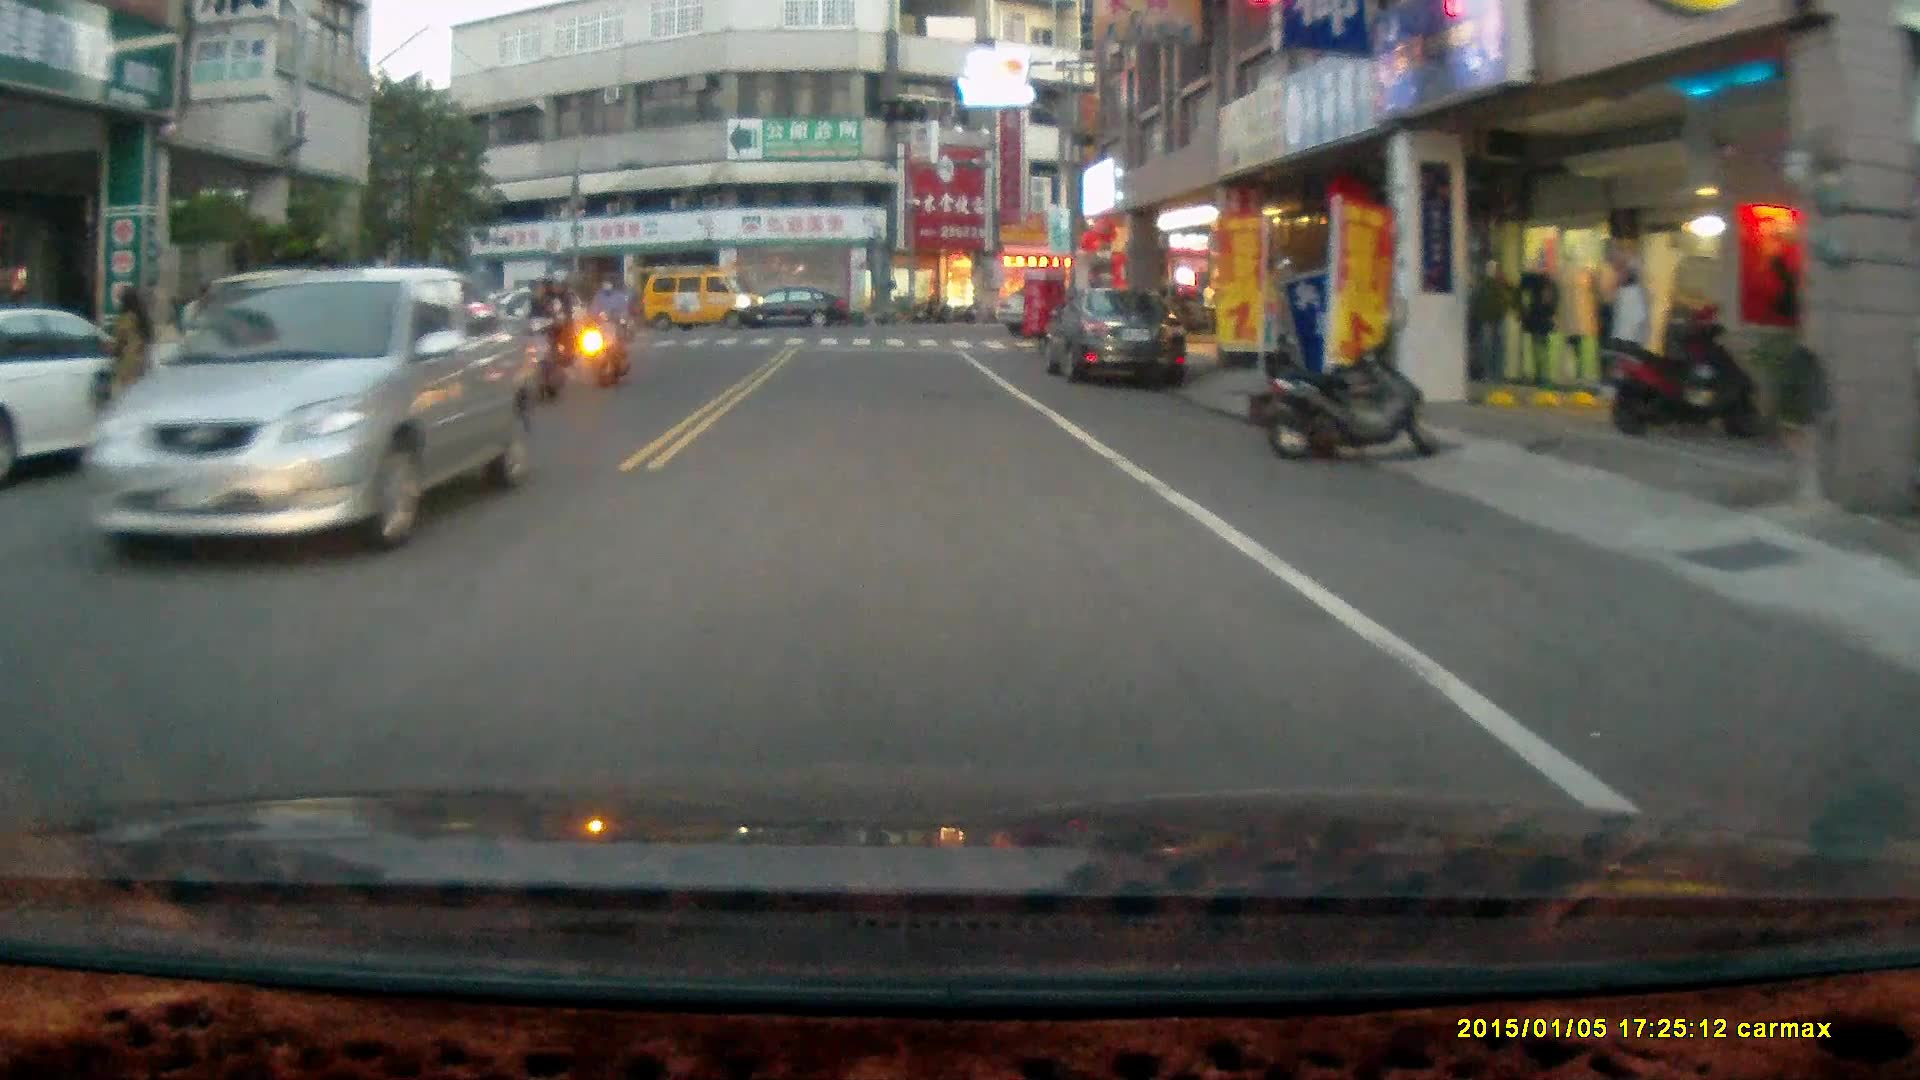pedestrian: (91, 284, 158, 446)
rider: (513, 269, 577, 410), (584, 272, 631, 392)
vehicle: (170, 272, 520, 587), (1, 307, 233, 492), (1040, 284, 1193, 392), (638, 266, 767, 338), (732, 288, 851, 334)
